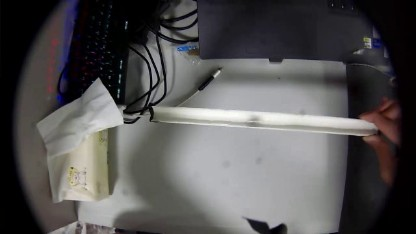gangzhu: (245, 114, 262, 124)
